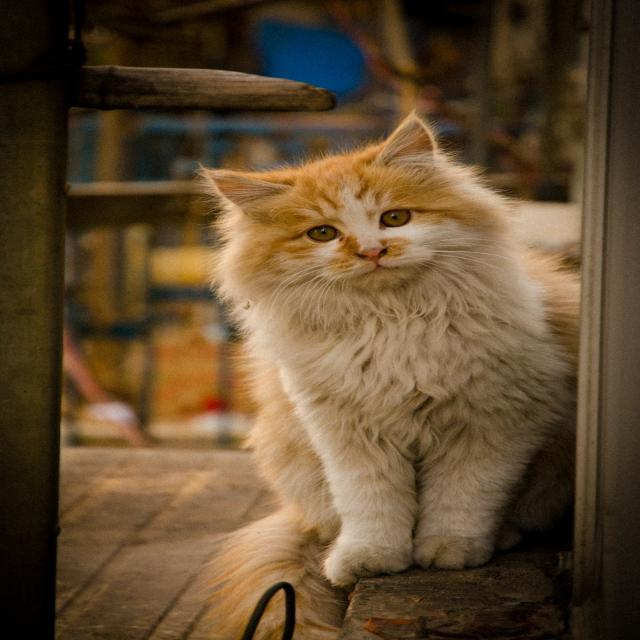cat: (165, 105, 626, 640)
